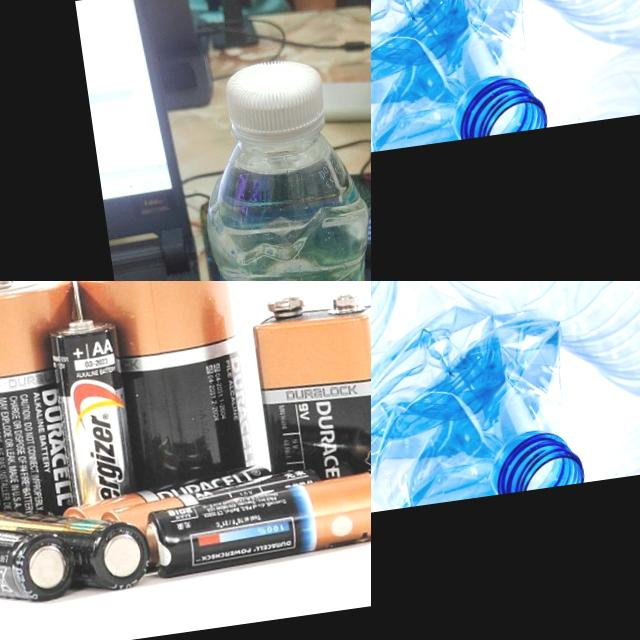bateria: (76, 281, 260, 500), (250, 285, 371, 534), (0, 281, 104, 521), (145, 472, 371, 581), (43, 316, 144, 512), (0, 494, 154, 609), (0, 504, 80, 621)
garrafa plástica: (371, 281, 585, 537), (399, 281, 640, 436), (371, 0, 548, 182), (195, 126, 371, 281), (371, 0, 640, 81), (550, 42, 640, 126), (587, 397, 640, 481)
tampa plástica: (220, 50, 330, 152)
